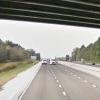Bridge: (1, 1, 97, 32)
